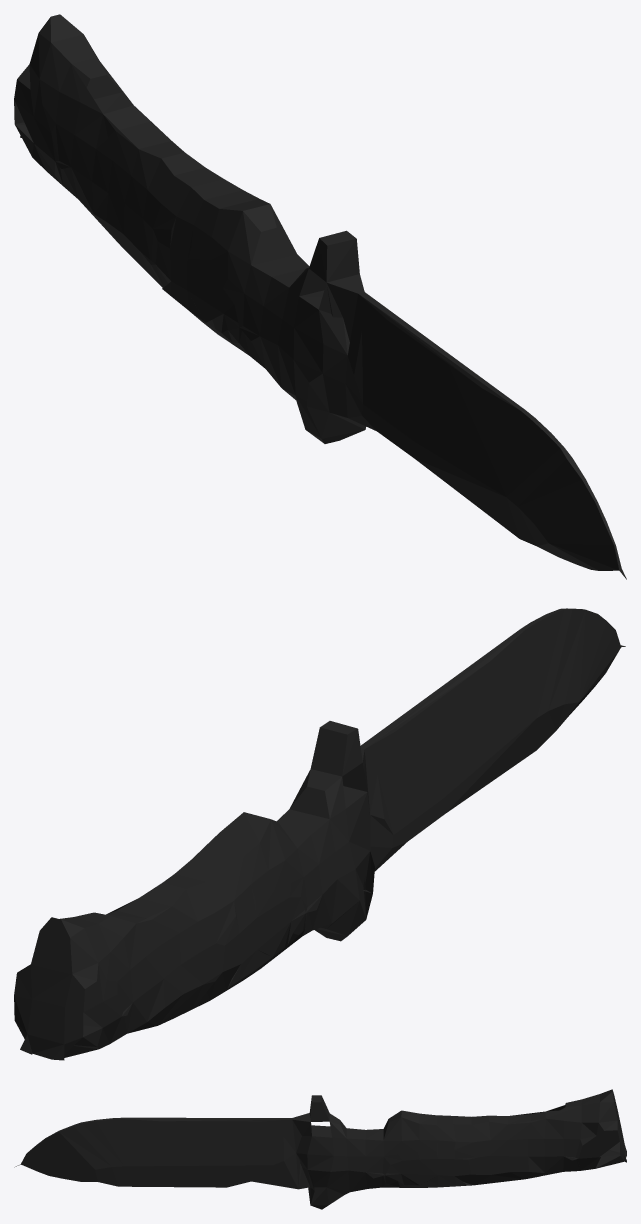
Rendered from model_align.obj.
3 renders of one model, top to bottom at view 1: azimuth 30°, elevation 25°; view 2: azimuth 150°, elevation 25°; view 3: azimuth 270°, elevation 25°, orthographic. The views are drawn at different scales.
Size of the model in its own units: 0.0144 by 0.044 by 0.208.
1 material, 1 textured.
